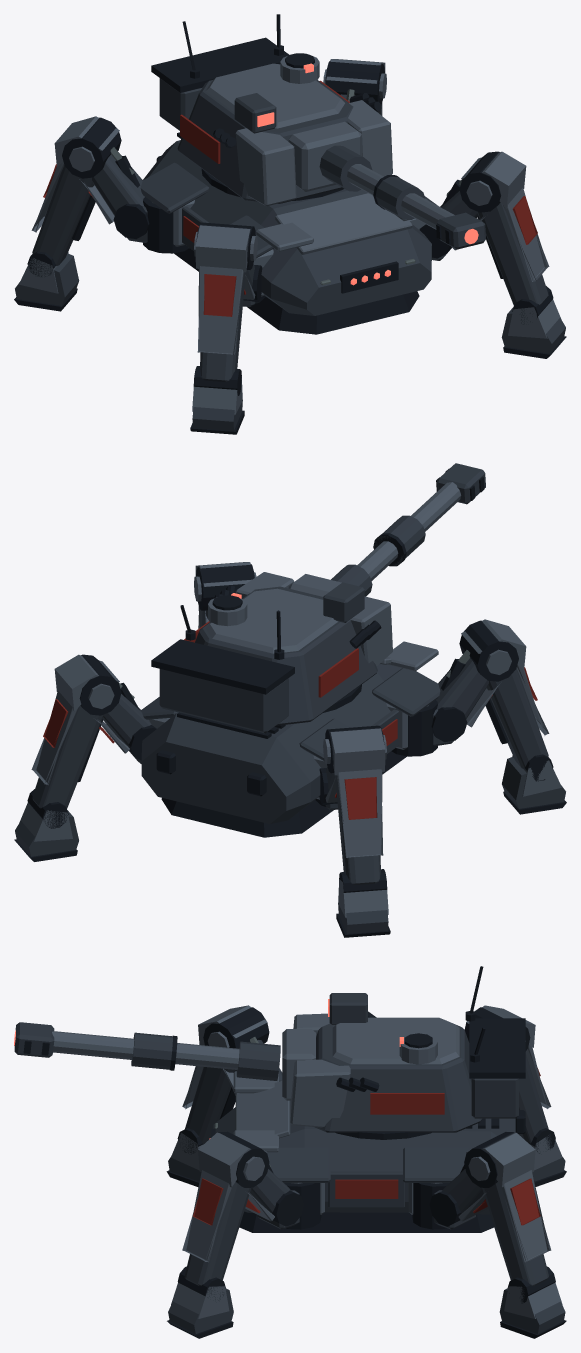
The model's file is m_crusher.glb.
3 views of the same model, one above another, from view 1: azimuth 30°, elevation 25°; view 2: azimuth 150°, elevation 25°; view 3: azimuth 270°, elevation 25° (orthographic). The views are drawn at different scales.
Parts seen in each view (by area): view 1: Hull, Turret armor, Leg shin.001, Leg shin, Leg shin.003, Plasma cannon, Leg femur.003, Leg hoof.001, Leg hoof.003, Leg hoof, Leg shin.002, Leg coxa.003 (+2 smaller); view 2: Turret armor, Hull, Leg shin.002, Leg shin.003, Leg shin, Plasma cannon, Leg femur, Leg hoof.002, Leg hoof, Leg hoof.003, Leg femur.002, Leg shin.001 (+1 smaller); view 3: Turret armor, Hull, Leg shin.002, Leg shin.001, Plasma cannon, Leg shin, Leg shin.003, Leg hoof.001, Leg hoof.002, Leg femur.001, Leg femur.002, Leg hoof (+3 smaller).
Part boxes in pixels (x1,y1,x2,y2): Hull: (140, 132, 437, 334); Turret armor: (151, 14, 392, 206); Leg shin.001: (459, 151, 553, 324); Leg shin: (193, 222, 257, 395); Leg shin.003: (27, 116, 121, 276); Plasma cannon: (319, 145, 485, 249); Leg femur.003: (79, 147, 149, 239); Leg hoof.001: (501, 299, 566, 358); Leg hoof.003: (14, 252, 79, 311); Leg hoof: (190, 376, 244, 434); Leg shin.002: (323, 59, 386, 115); Leg coxa.003: (127, 197, 189, 253); Turret armor: (151, 572, 392, 733); Hull: (140, 641, 440, 837); Leg shin.002: (27, 654, 121, 828); Leg shin.003: (323, 725, 387, 892); Leg shin: (459, 619, 553, 781); Plasma cannon: (331, 463, 485, 596); Leg femur: (431, 650, 501, 742); Leg hoof.002: (14, 802, 78, 861); Leg hoof: (502, 755, 566, 814); Leg hoof.003: (336, 879, 390, 937); Leg femur.002: (95, 682, 156, 760); Leg shin.001: (194, 562, 256, 628); Turret armor: (282, 966, 525, 1132); Hull: (209, 1071, 525, 1232); Leg shin.002: (464, 1132, 555, 1303); Leg shin.001: (177, 1131, 269, 1300); Plasma cannon: (14, 1022, 280, 1080); Leg shin: (177, 1005, 269, 1154); Leg shin.003: (464, 1005, 555, 1153); Leg hoof.001: (167, 1282, 233, 1338); Leg hoof.002: (499, 1282, 566, 1338); Leg femur.001: (245, 1164, 303, 1226); Leg femur.002: (429, 1164, 488, 1226); Leg hoof: (166, 1132, 202, 1186).
Bounding box in the file's own units: 3.75 × 2.56 × 4.9.
